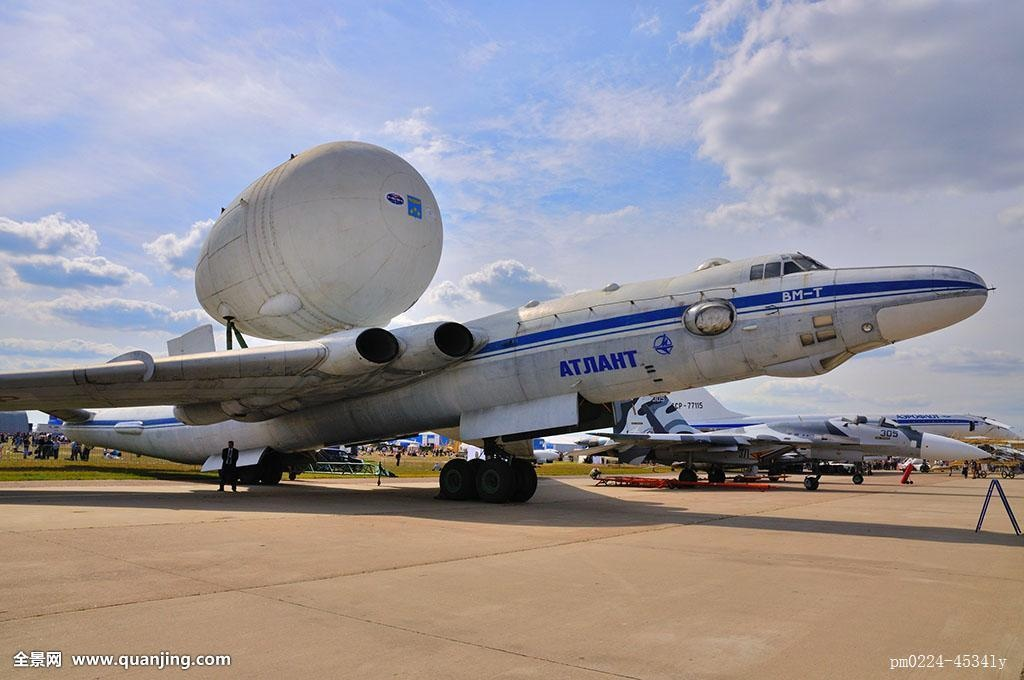airplane: (5, 135, 1000, 499)
